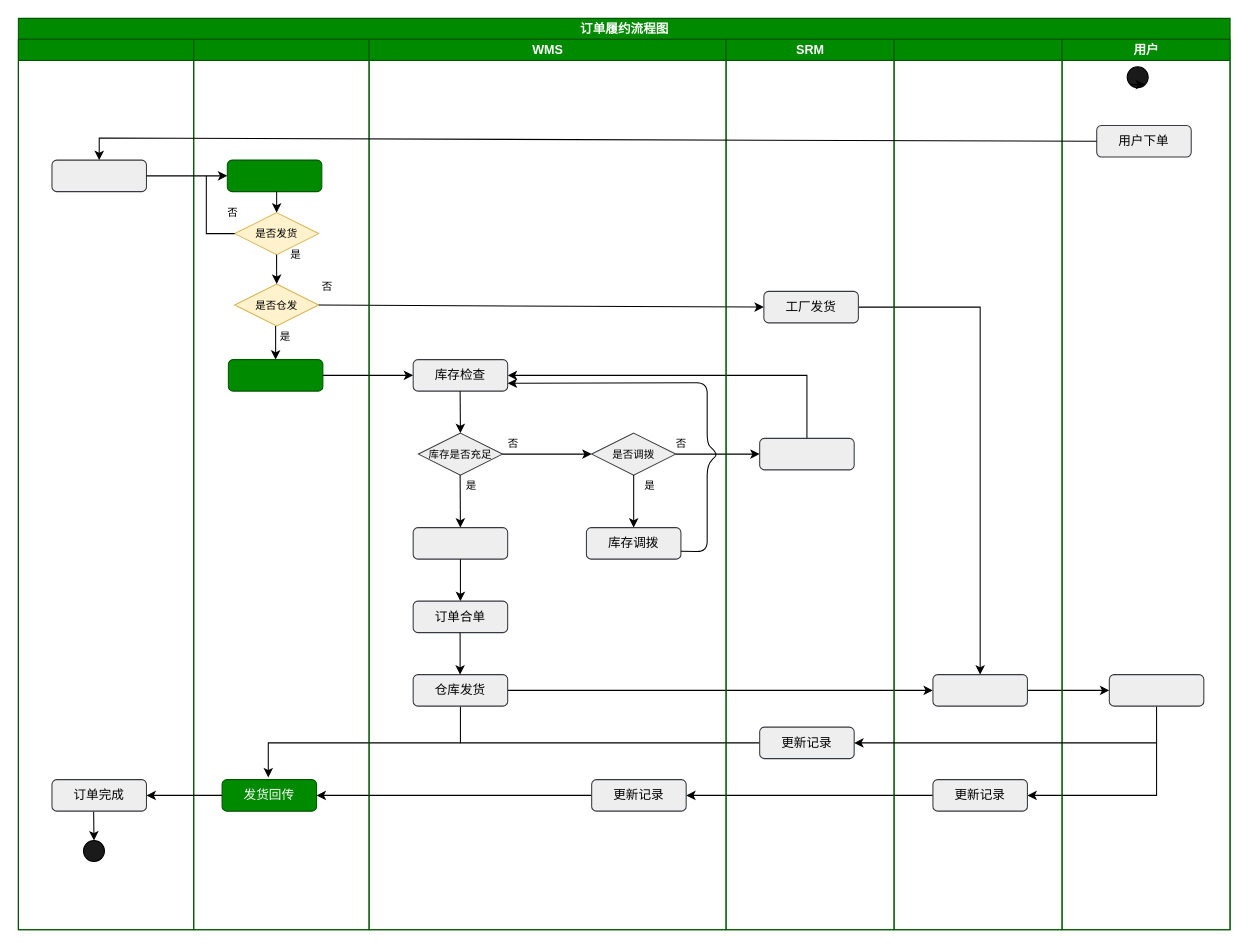
Image size: 1248x948. Some labels were removed from this diagram. The shapes that lost their labels are listed below. From the top down, each one's box as (x1, y1, x2, y2) in pixels, then its label:
(51, 159, 146, 192): 生成订单
(226, 159, 322, 192): 订单处理
(227, 359, 323, 391): 拆单分仓
(759, 437, 854, 470): 商品采购
(17, 38, 194, 930): 电商平台
(193, 38, 369, 930): OMS
(893, 38, 1062, 930): TMS
(412, 527, 508, 559): 订单拣货
(932, 674, 1027, 706): 物流运输
(1108, 674, 1204, 706): 用户签收
